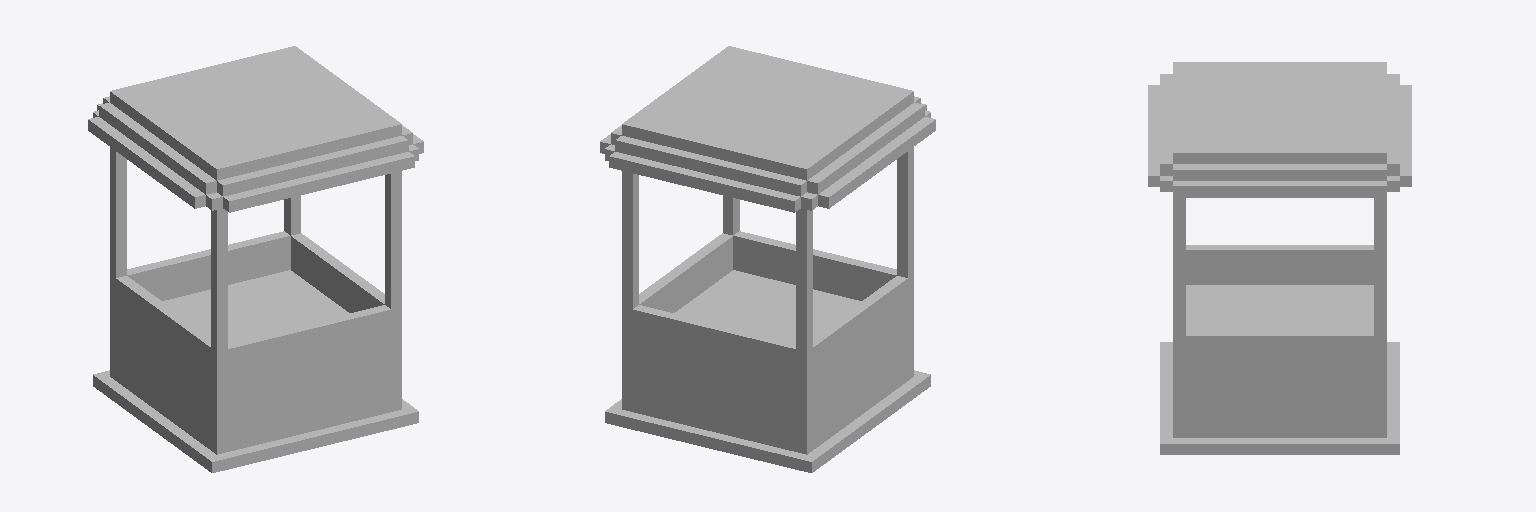
File: Well.obj
The picture shows the model from 3 angles: view 1: azimuth 30°, elevation 25°; view 2: azimuth 150°, elevation 25°; view 3: azimuth 270°, elevation 25°; orthographic projection.
Size of the model in its own units: 21 by 26 by 21.